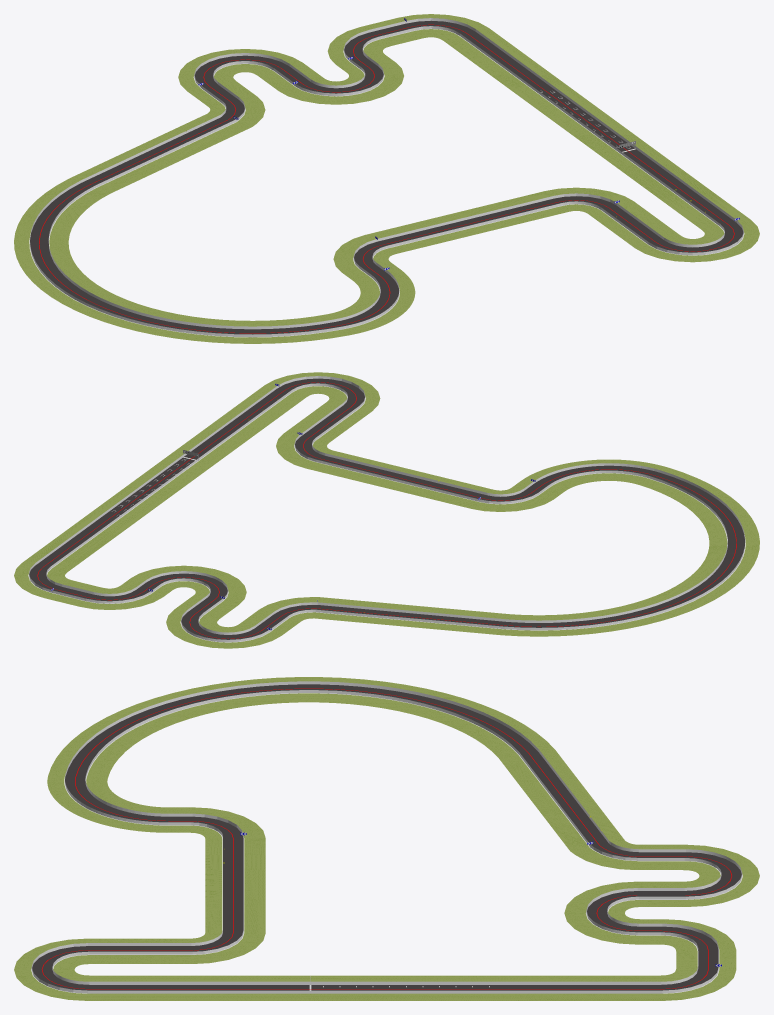
Rendered from pistaSimple.dae.
3 views of the same model, one above another, from view 1: azimuth 30°, elevation 25°; view 2: azimuth 150°, elevation 25°; view 3: azimuth 270°, elevation 25° (orthographic). The views are drawn at different scales.
Visible parts, largest first — view 1: SketchUp, SketchUp_004, SketchUp_002, SketchUp_027, SketchUp_028, group_1, SketchUp_001, SketchUp_003; view 2: SketchUp, SketchUp_004, SketchUp_002, SketchUp_027, SketchUp_028, group_1, SketchUp_001, SketchUp_003; view 3: SketchUp, SketchUp_002, SketchUp_004, SketchUp_027, SketchUp_028, group_1, SketchUp_001, SketchUp_003.
Part boxes in pixels (x1=…): SketchUp: x1=49, y1=29, x2=724, y2=326; SketchUp_004: x1=30, y1=20, x2=743, y2=334; SketchUp_002: x1=14, y1=14, x2=759, y2=343; SketchUp_027: x1=30, y1=18, x2=743, y2=337; SketchUp_028: x1=48, y1=26, x2=724, y2=329; group_1: x1=39, y1=24, x2=734, y2=333; SketchUp_001: x1=49, y1=28, x2=724, y2=292; SketchUp_003: x1=29, y1=50, x2=744, y2=337; SketchUp: x1=47, y1=386, x2=727, y2=632; SketchUp_004: x1=29, y1=378, x2=744, y2=639; SketchUp_002: x1=14, y1=372, x2=759, y2=648; SketchUp_027: x1=29, y1=376, x2=745, y2=642; SketchUp_028: x1=46, y1=383, x2=727, y2=634; group_1: x1=37, y1=382, x2=736, y2=638; SketchUp_001: x1=47, y1=386, x2=727, y2=621; SketchUp_003: x1=28, y1=397, x2=745, y2=642; SketchUp: x1=53, y1=693, x2=720, y2=981; SketchUp_002: x1=14, y1=677, x2=759, y2=1000; SketchUp_004: x1=32, y1=684, x2=741, y2=990; SketchUp_027: x1=31, y1=681, x2=742, y2=993; SketchUp_028: x1=52, y1=690, x2=721, y2=984; group_1: x1=41, y1=688, x2=731, y2=989; SketchUp_001: x1=53, y1=693, x2=720, y2=990; SketchUp_003: x1=31, y1=777, x2=742, y2=993.
Bounding box in the file's own units: 115 × 112 × 1.44.
9 materials, 3 textured.
